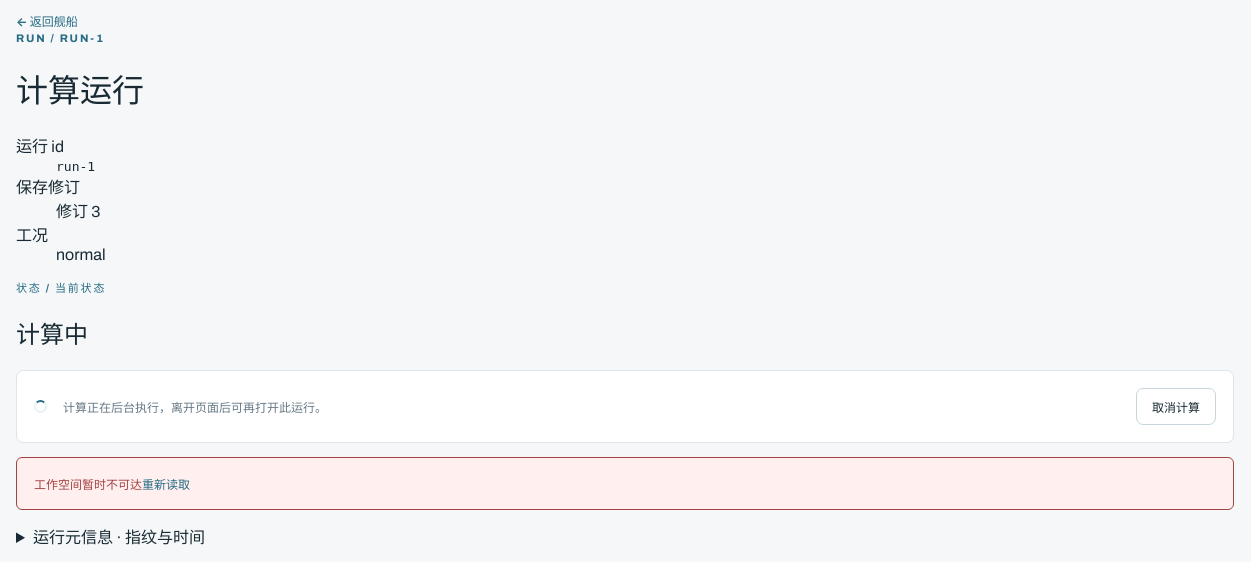
Scenario: late replies › does not replace a loaded run with an error when a later read fails
Expected: the heading "计算中" is shown, x1=16 y1=322 x2=88 y2=348
Expected: the text "工作空间暂时不可达" is shown, x1=34 y1=478 x2=142 y2=492
Click the button "重新读取".
click(166, 483)  # box x1=142 y1=472 x2=190 y2=495
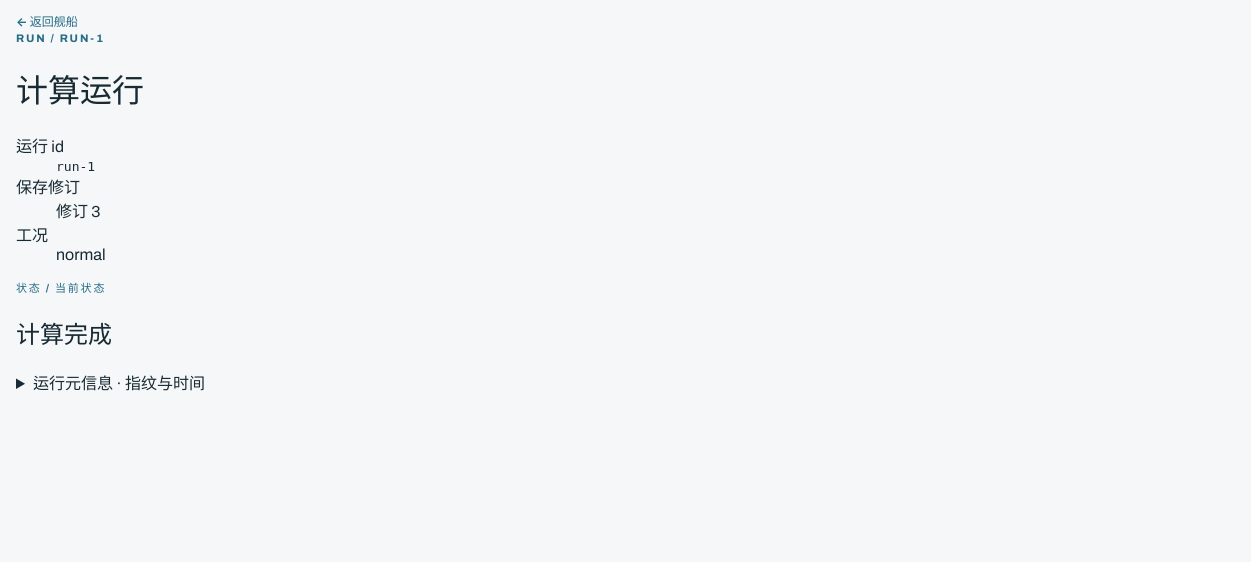
Expected: the heading "计算完成" is shown, x1=16 y1=322 x2=112 y2=348
Expected: the text "工作空间暂时不可达" is gone
